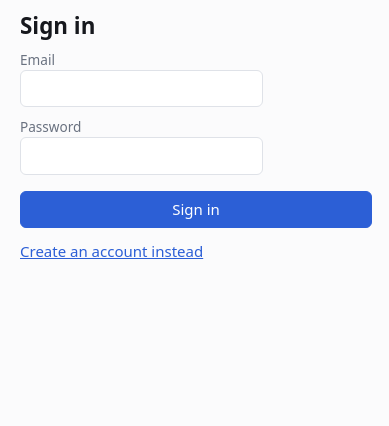
Test: SignInForm › clears the error when switching mode
This screenshot has width=389, height=426.
Type "a@b.test" into the field labelled "Email" at (142, 89), box [20, 70, 263, 107]
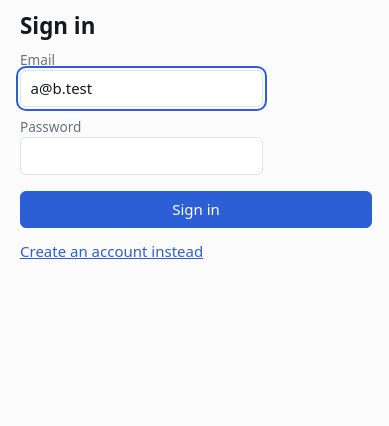
Type "wrong-password-x" into the password field labelled "Password" at (142, 156), box [20, 137, 263, 175]
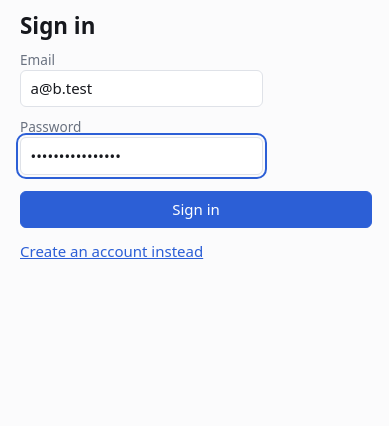
Click the button "Sign in" at (196, 209), box [20, 190, 372, 228]
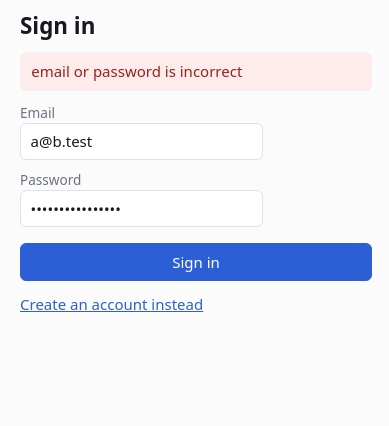
Now the message "email or password is incorrect" is shown, box [20, 52, 372, 90]
Click the button "Create an account instead" at (112, 304), box [20, 293, 203, 315]
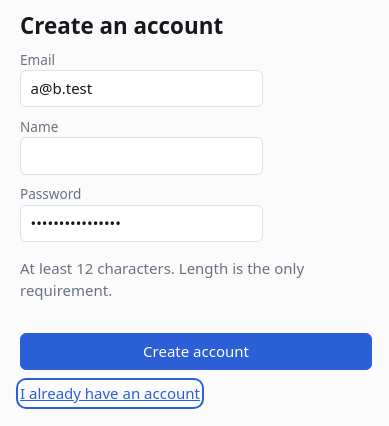
Now the message "email or password is incorrect" is gone
